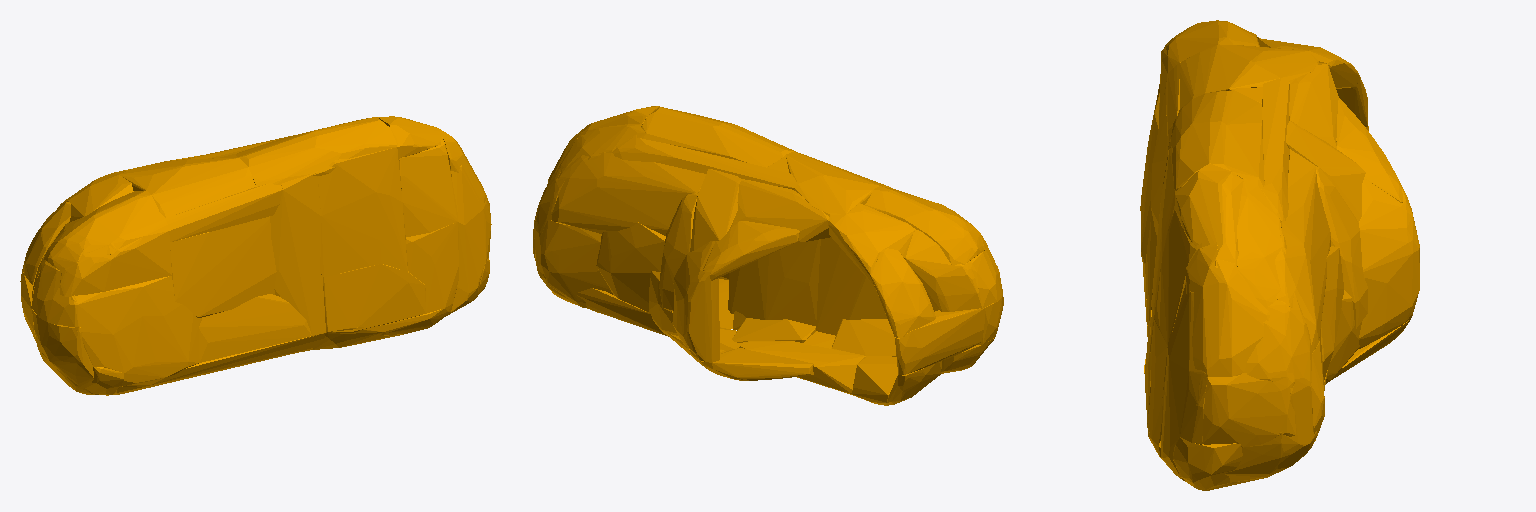
The robot description file, URDF, robot "shoe-frog":
<?xml version="1.0" ?>
<robot name="shoe-frog">
  <link name="baseLink">
    <contact>
      <lateral_friction value="1.0"/>
      <inertia_scaling value="3.0"/>
    </contact>
    <inertial>
      <origin rpy="0 0 0" xyz="0.000 0.000 0.000"/>
       <mass value=".1"/>
       <inertia ixx="1" ixy="0.0" ixz="0.0" iyy="1" iyz="0.0" izz="1"/>
    </inertial>
    <visual>
      <origin rpy="0 0 0" xyz="0 0 0"/>
      <geometry>
        <mesh filename="shoe/shoe-frog_right.obj" scale="1.0 1.0 1.0"/>
      </geometry>
    </visual>
    <collision>
      <origin rpy="0 0 0" xyz="0 0 0"/>
      <geometry>
        <mesh filename="../collision/shoe/shoe-frog_right.obj" scale="1.0 1.0 1.0"/>
      </geometry>
    </collision>
  </link>
</robot>
        

--- What the picture shows (computed from the rendered views, not written in the file) ---
3 views of the same robot in one strip: view 1: azimuth 30°, elevation 25°; view 2: azimuth 150°, elevation 25°; view 3: azimuth 270°, elevation 25° (orthographic).
Robot: shoe-frog — 1 links, 0 joints (none); root link baseLink; default pose: every joint at zero.
Links seen in each view (by area): view 1: baseLink; view 2: baseLink; view 3: baseLink.
Boxes of the visible links, left/top/right/bottom form: baseLink: left=20, top=116, right=491, bottom=395; baseLink: left=533, top=106, right=1003, bottom=405; baseLink: left=1140, top=20, right=1419, bottom=490.
Size in the robot's own frame: 0.2356 by 0.0933 by 0.1066 metres.
1 mesh visuals loaded from 1 distinct referenced files (1 OBJ).